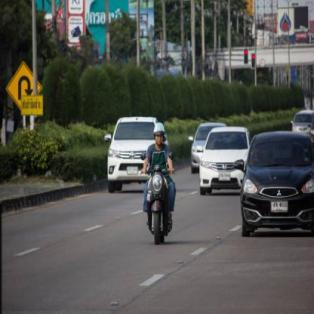Motocicleta: (138, 156, 179, 246)
